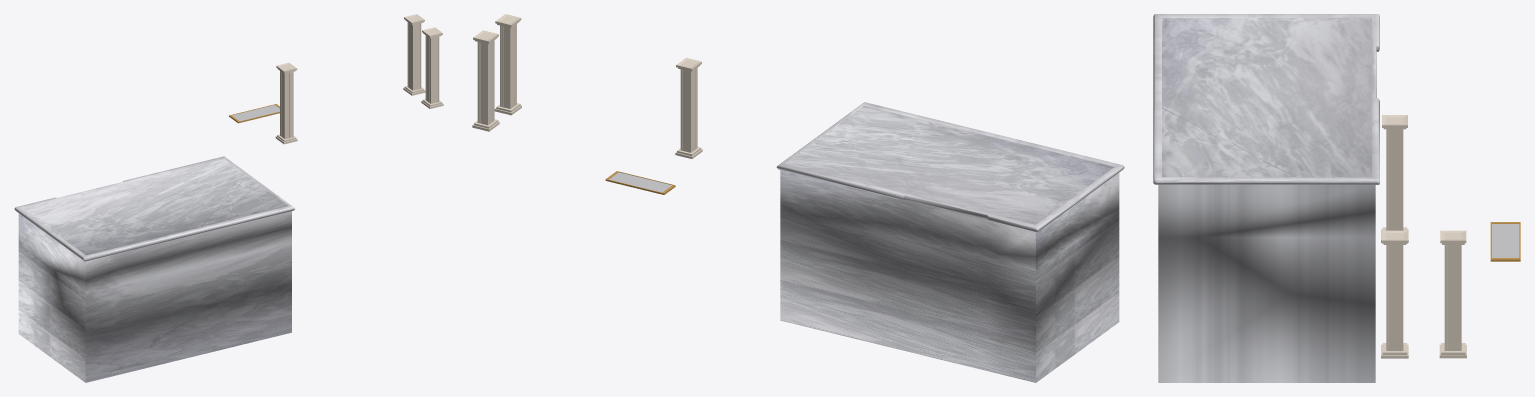
The model's file is corrections2.glb.
The picture shows the model from 3 angles, left to right: view 1: azimuth 30°, elevation 25°; view 2: azimuth 150°, elevation 25°; view 3: azimuth 270°, elevation 25°; orthographic projection. The views are drawn at different scales.
Parts seen in each view (by area): view 1: marbleBase, Cube.110, Cube.109, Cube.070, sink_stuff; view 2: marbleBase, Cube.110, Cube.070, Cube.109, sink_stuff; view 3: marbleBase, Cube.110, Cube.109, Cube.070, sink_stuff.
Part boxes in pixels (x1,y1,x2,y2): marbleBase: (14, 156, 294, 382); Cube.110: (403, 14, 425, 95); Cube.109: (421, 27, 443, 108); Cube.070: (275, 62, 297, 144); sink_stuff: (229, 104, 279, 123); marbleBase: (776, 102, 1124, 382); Cube.110: (472, 30, 499, 131); Cube.070: (675, 58, 702, 158); Cube.109: (494, 14, 521, 115); sink_stuff: (605, 171, 675, 194); marbleBase: (1153, 14, 1379, 382); Cube.110: (1439, 230, 1466, 358); Cube.109: (1381, 230, 1408, 358); Cube.070: (1381, 115, 1408, 242); sink_stuff: (1490, 222, 1520, 261).
Size of the model in its own units: 21.14 by 9.19 by 9.67.
Materials: 2 (2 with a texture image).
